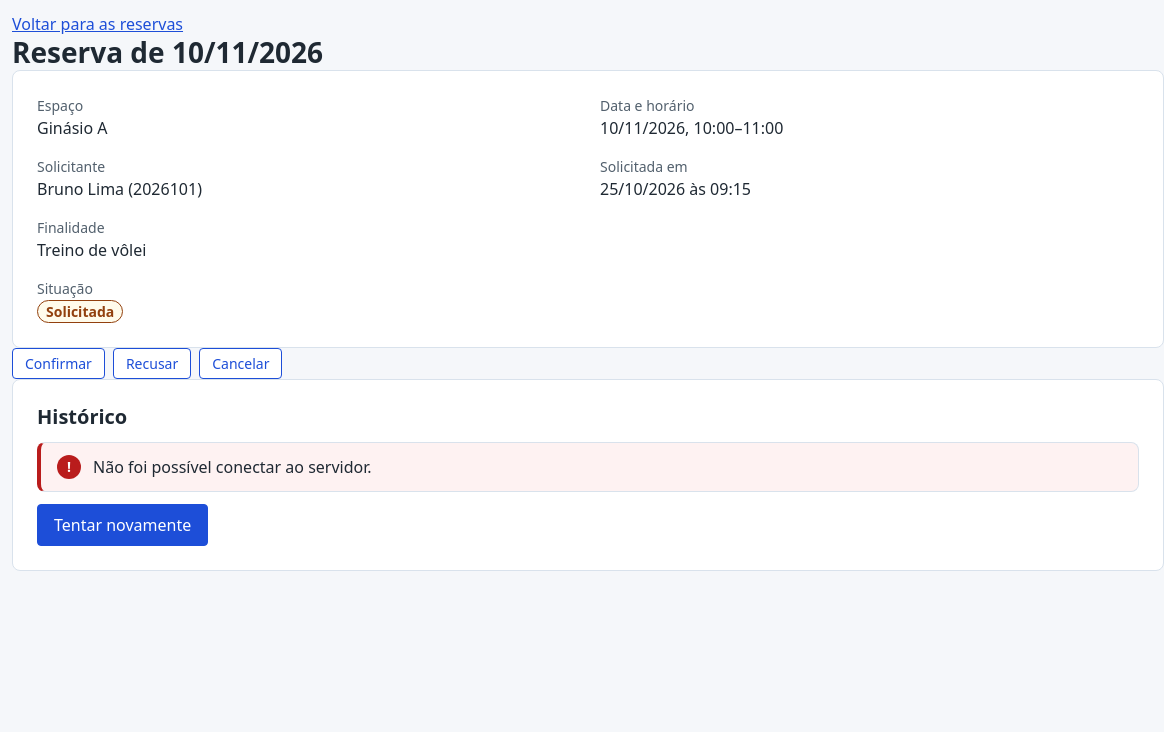
PaginaReserva › se o histórico falhar, o erro fica só na seção e "Tentar novamente" busca de novo
Check: the message shows "Não foi possível conectar ao servidor.", box [93,456,372,478]
Check: the text "Ginásio A" is shown, box [37,117,108,139]
Click the button "Tentar novamente" at (123, 525), box [37,504,208,546]
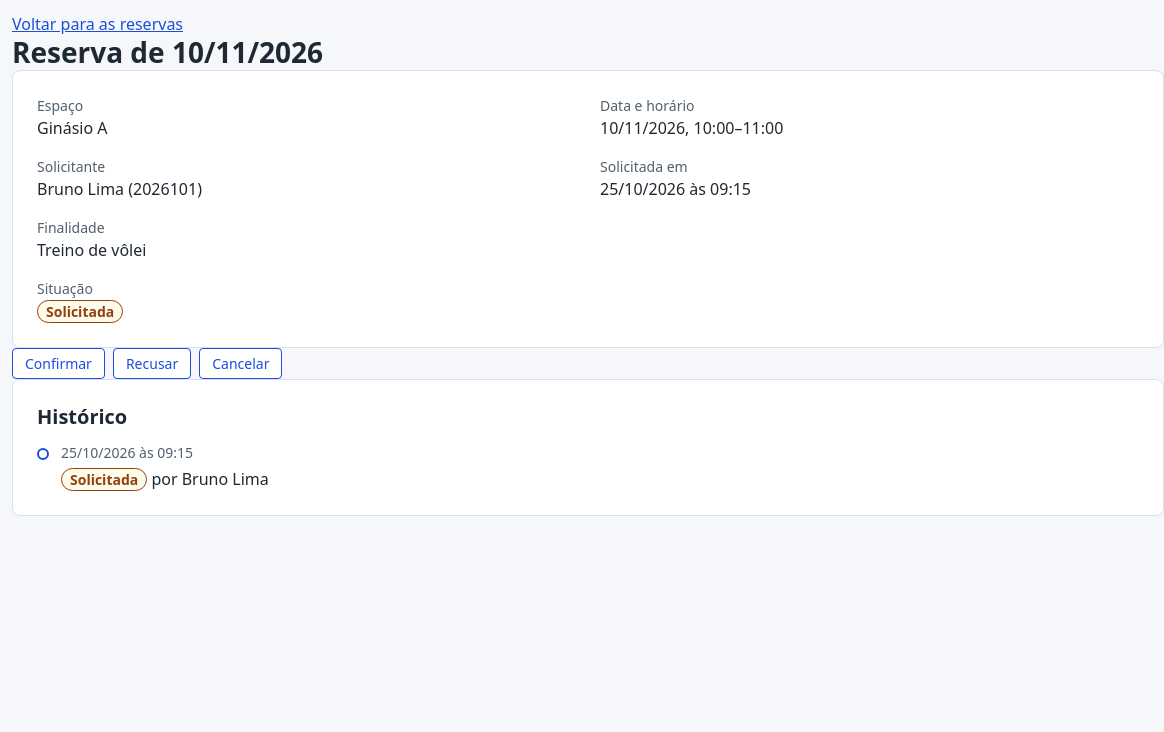
Check: the text "por Bruno Lima" is shown, box [61,468,269,491]
